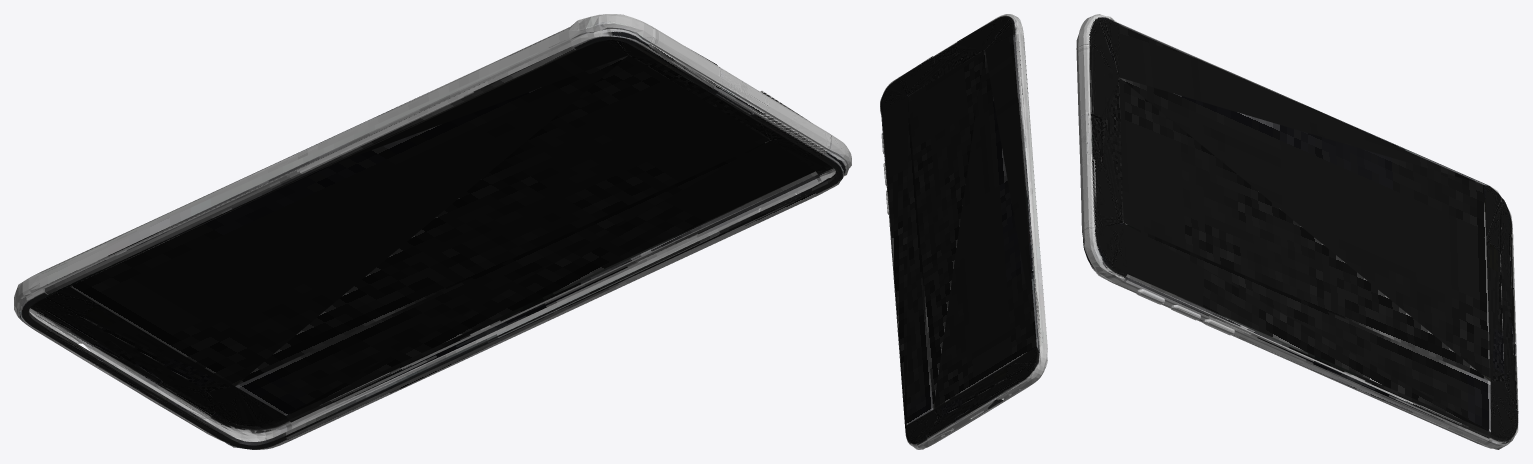
File: ewm_smartphone.glb
3 views of the same model, side by side, from view 1: azimuth 30°, elevation 25°; view 2: azimuth 150°, elevation 25°; view 3: azimuth 270°, elevation 25° (orthographic). The views are drawn at different scales.
Parts seen in each view (by area): view 1: ewm_smartphone; view 2: ewm_smartphone; view 3: ewm_smartphone.
Part boxes in pixels (bbox=[...]): ewm_smartphone: bbox=[14, 14, 851, 449]; ewm_smartphone: bbox=[880, 14, 1047, 449]; ewm_smartphone: bbox=[1076, 14, 1518, 449].
Bounding box in the file's own units: 0.1198 × 0.1223 × 0.1063.
Materials: 1 (1 with a texture image).
